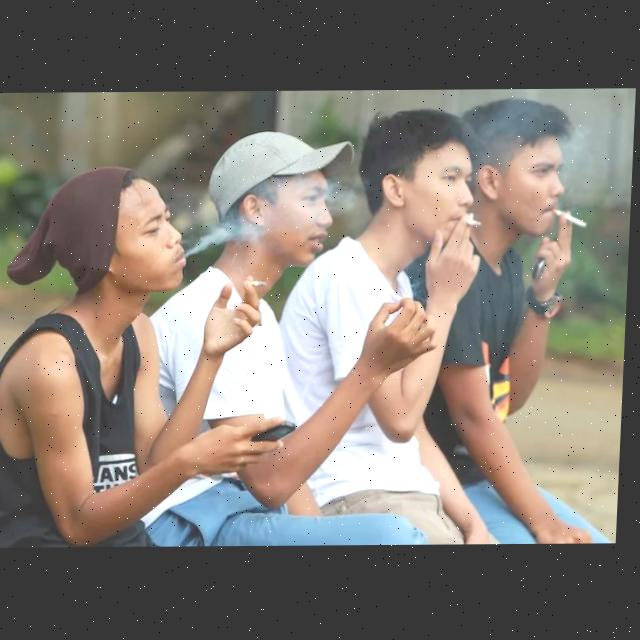cigarette: (554, 209, 590, 228), (253, 280, 269, 287), (468, 220, 484, 227)
